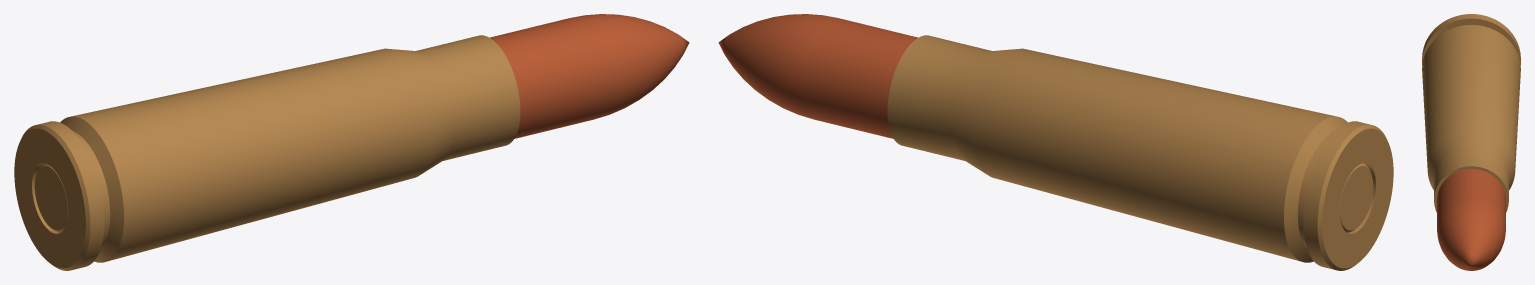
File: round_7_d_62x39.glb
3 renders of one model, left to right at view 1: azimuth 30°, elevation 25°; view 2: azimuth 150°, elevation 25°; view 3: azimuth 270°, elevation 25°, orthographic. The views are drawn at different scales.
Parts seen in each view (by area): view 1: cartridge:cartridge-model; view 2: cartridge:cartridge-model; view 3: cartridge:cartridge-model.
Part boxes in pixels (x1,y1,x2,y2): cartridge:cartridge-model: (14,14,689,270); cartridge:cartridge-model: (718,14,1393,270); cartridge:cartridge-model: (1422,14,1520,270).
Size of the model in its own units: 0.056 by 0.0114 by 0.0114.
